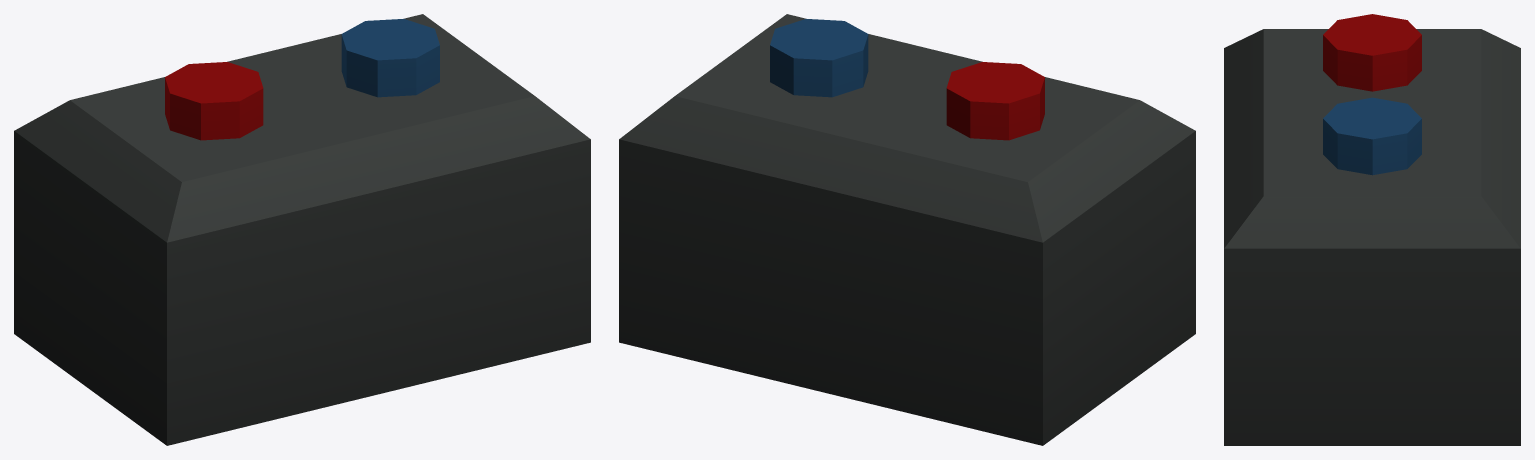
The model's file is battery.glb.
3 views of the same model, side by side, from view 1: azimuth 30°, elevation 25°; view 2: azimuth 150°, elevation 25°; view 3: azimuth 270°, elevation 25° (orthographic). The views are drawn at different scales.
Visible parts, largest first — view 1: battery; view 2: battery; view 3: battery.
Boxes of the visible parts, x1=… form: battery: x1=14, y1=14, x2=590, y2=445; battery: x1=619, y1=14, x2=1195, y2=445; battery: x1=1224, y1=14, x2=1520, y2=445.
Bounding box in the file's own units: 0.24 × 0.15 × 0.15.
